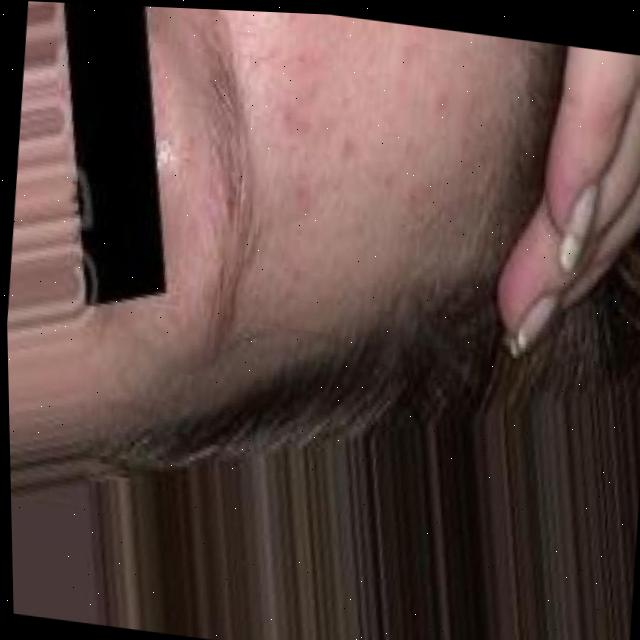Rosacea: (267, 12, 439, 227)
